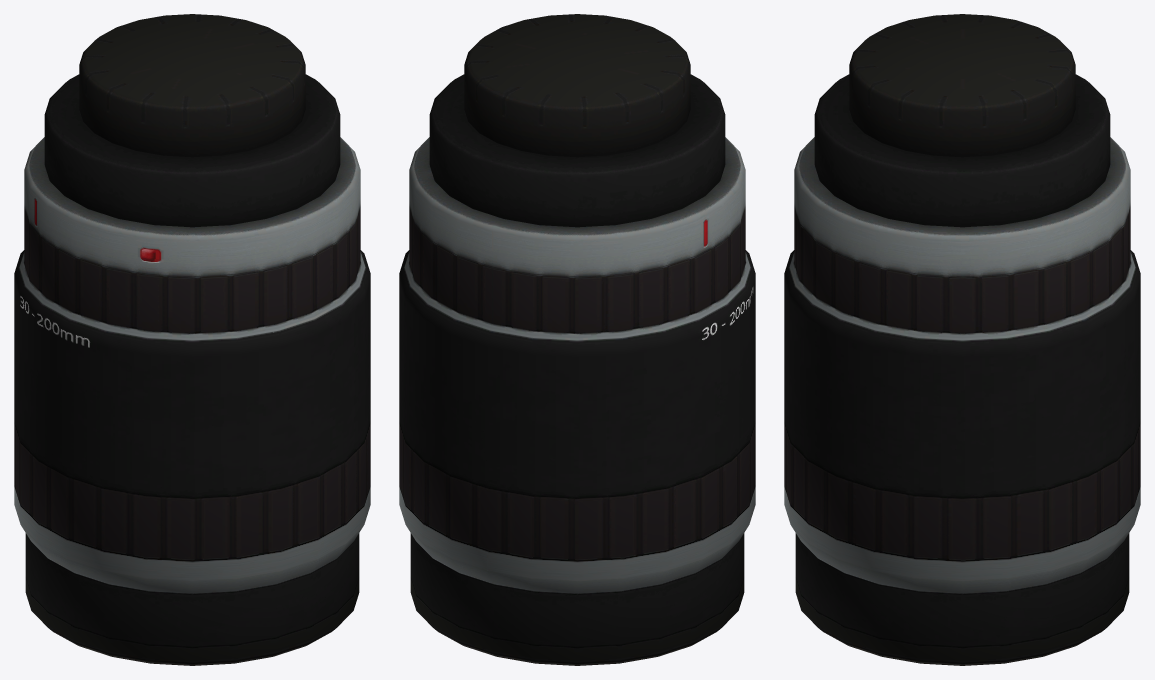
File: objective01.dae
3 views of the same model, side by side, from view 1: azimuth 30°, elevation 25°; view 2: azimuth 150°, elevation 25°; view 3: azimuth 270°, elevation 25° (orthographic).
Visible parts, largest first — view 1: objective_01; view 2: objective_01; view 3: objective_01.
Boxes of the visible parts, <box> form: objective_01: <box>14,14,370,665</box>; objective_01: <box>399,14,755,665</box>; objective_01: <box>784,14,1140,665</box>.
Bounding box in the file's own units: 17.88 × 30.14 × 17.88.
